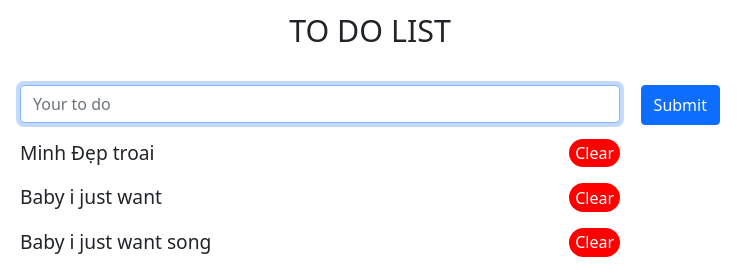
Test case: Test Todo App › clear todo item
Click the button with class "clear" in the row of "Minh Đẹp troai".
click(595, 154)  # box [569,139,620,168]
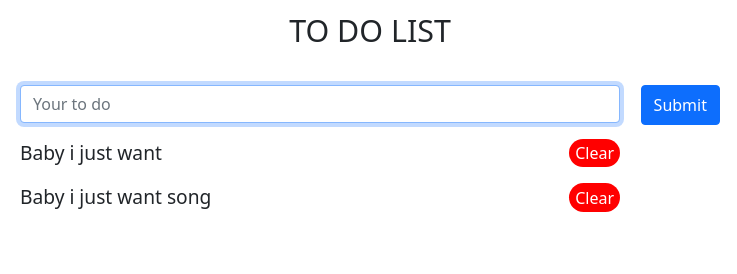
Expected: the number of elements with class "todolist-item" is 2, [20,138,620,167]; [20,183,620,212]
